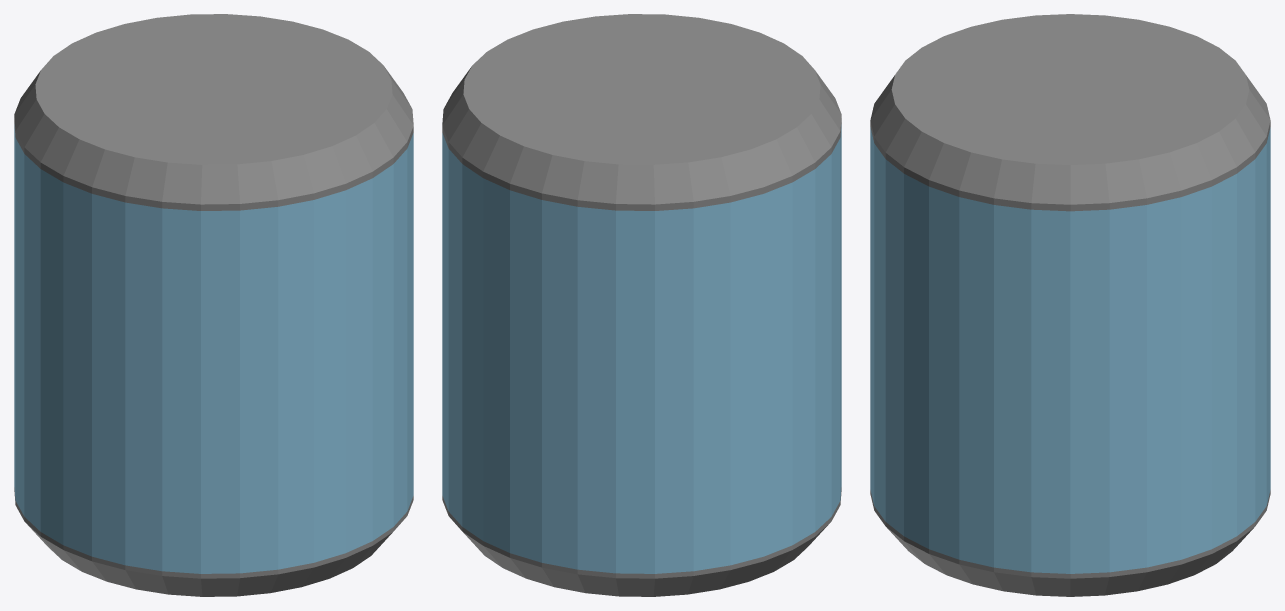
File: can.glb
3 renders of one model, left to right at view 1: azimuth 30°, elevation 25°; view 2: azimuth 150°, elevation 25°; view 3: azimuth 270°, elevation 25°, orthographic.
Visible parts, largest first — view 1: Cylinder; view 2: Cylinder; view 3: Cylinder.
Boxes of the visible parts, x1,y1,x2,y2 form: Cylinder: (14, 14, 413, 596); Cylinder: (442, 14, 841, 596); Cylinder: (870, 14, 1270, 596).
Bounding box in the file's own units: 2 × 2.39 × 2.
1 material, 1 textured.
